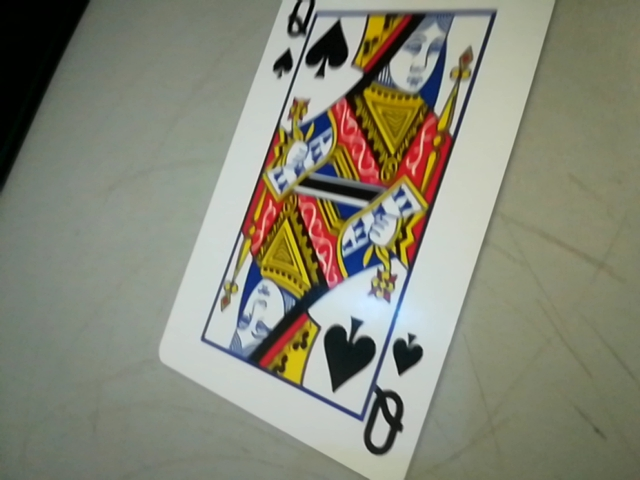ht q: (359, 324, 426, 473)
